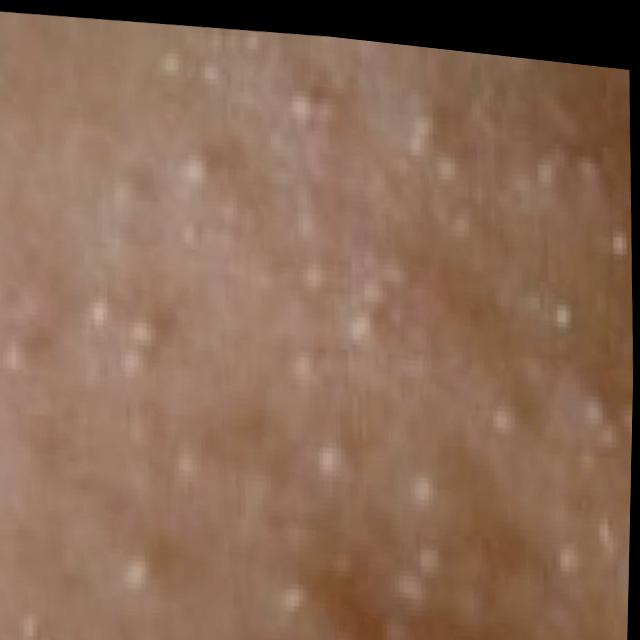whitehead: (33, 13, 635, 640)
